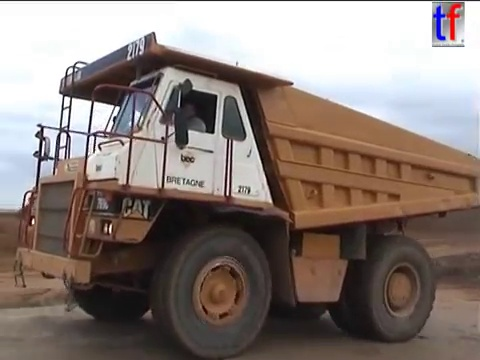truck: (10, 28, 480, 360)
